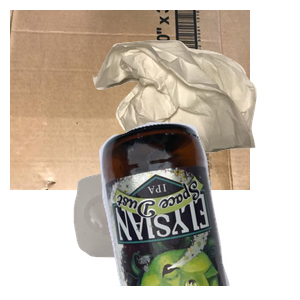cardboard: (10, 10, 250, 190)
glass: (97, 120, 300, 300)
plastic: (71, 169, 275, 300)
trash: (90, 38, 300, 183)
